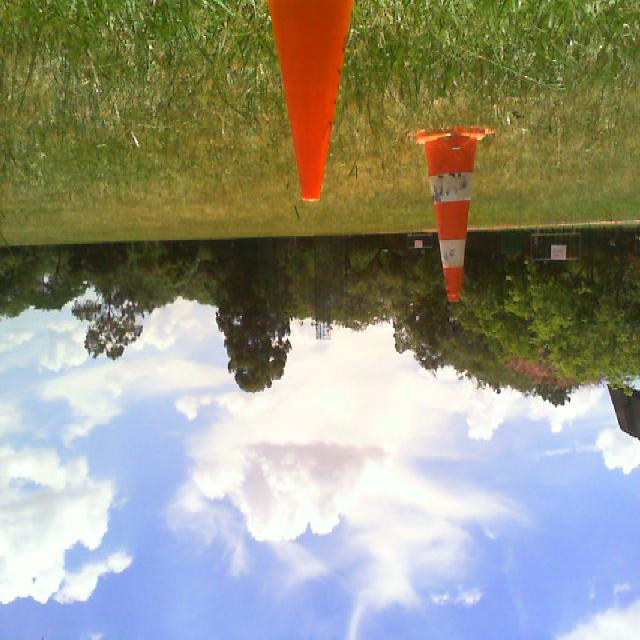cone: (268, 0, 352, 202), (407, 127, 493, 301)
